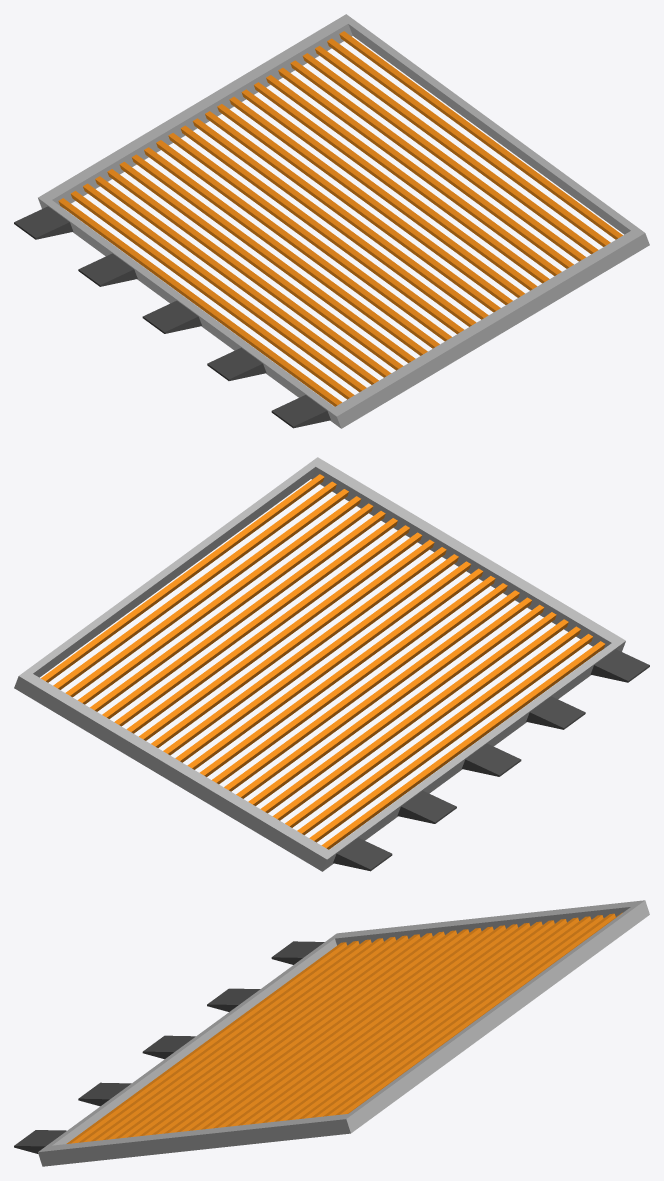
File: MetalConstruction03.fbx
3 renders of one model, top to bottom at view 1: azimuth 30°, elevation 25°; view 2: azimuth 150°, elevation 25°; view 3: azimuth 330°, elevation 25°, orthographic.
Parts seen in each view (by area): view 1: SM_MetalConstruction03; view 2: SM_MetalConstruction03; view 3: SM_MetalConstruction03.
Part boxes in pixels (x1,y1,x2,y2): SM_MetalConstruction03: (14, 14, 649, 428); SM_MetalConstruction03: (14, 457, 649, 871); SM_MetalConstruction03: (14, 900, 649, 1166).
Bounding box in the file's own units: 337 × 113 × 503.
